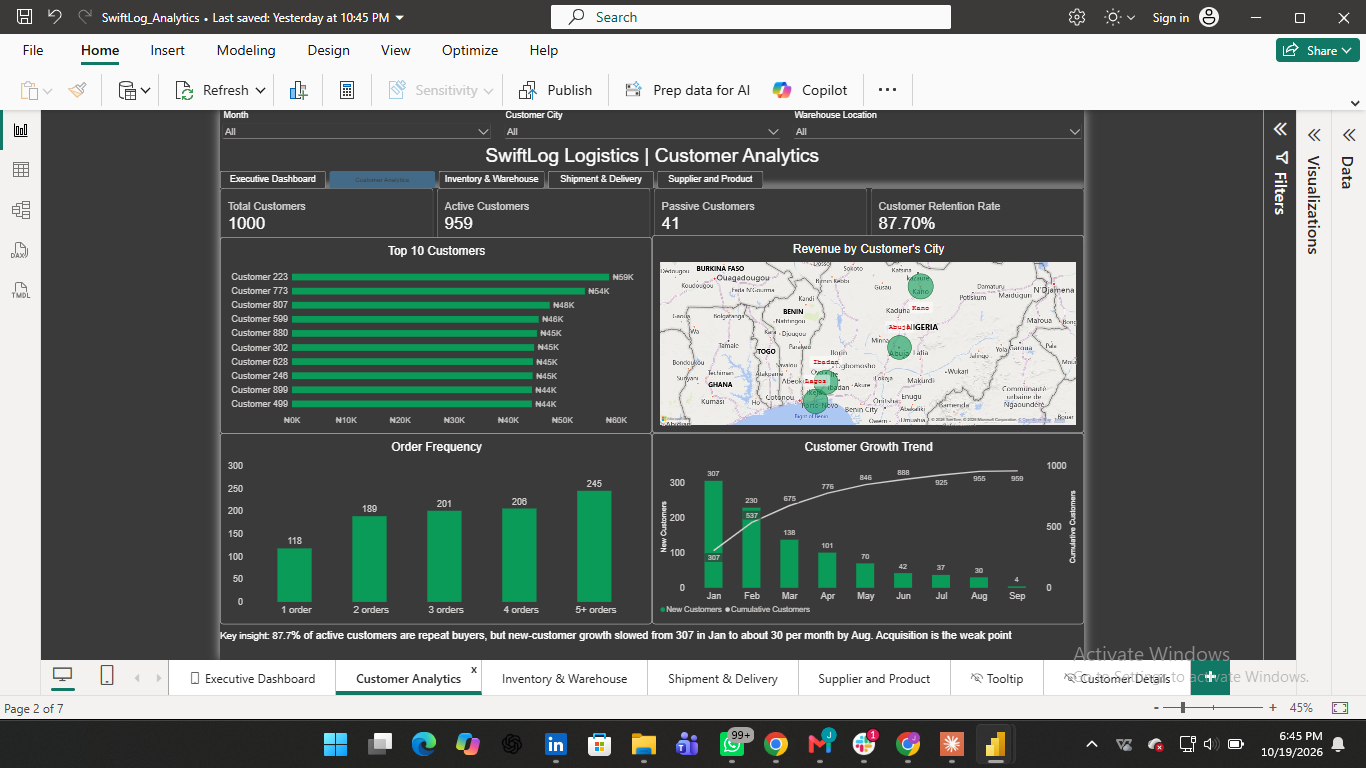

What the dashboard file says about the page in this screenshot:
{"tool":"powerbi","page":{"name":"Customer Analytics","canvas":[1920,1222],"ordinal":1},"visuals":[{"type":"cardVisual","fields":{"Data":["_Measures.Total Customers","_Measures.Active Customers","_Measures.Passive Customers","_Measures.Customer Retention Rate"]},"box":[0,173.5,1920.2,125],"z":0},{"type":"clusteredBarChart","title":"Top 10 Customers","fields":{"Category":["SwiftLog_Customers.CustomerName"],"Y":["_Measures.Total Revenue"]},"box":[0,281.1,960.5,437.5],"z":1000},{"type":"map","title":"Revenue by Customer''s City","fields":{"Category":["SwiftLog_Customers.City"],"Size":["_Measures.Total Revenue"]},"box":[960.5,278.6,960.5,439.9],"z":2000},{"type":"lineClusteredColumnComboChart","title":"Customer Growth Trend","fields":{"Y":["_Measures.New Customers"],"Category":["Date.Month"],"Y2":["_Measures.Cumulative Customers"]},"box":[960.5,718.5,960.5,425.3],"z":3000},{"type":"clusteredColumnChart","title":"Order Frequency","fields":{"Y":["_Measures.Customers in Band"],"Category":["Order Frequency Bands.Band"]},"box":[0,718.5,960.5,425.3],"z":4000},{"type":"slicer","fields":{"Values":["Date.Month"]},"box":[0,0,607,75.6],"z":5000},{"type":"slicer","fields":{"Values":["SwiftLog_Customers.City"]},"box":[626.4,0,624.2,75.6],"z":6000},{"type":"slicer","fields":{"Values":["SwiftLog_Warehouses.Location"]},"box":[1267.9,0,652.3,75.6],"z":7000},{"type":"textbox","box":[0,75.8,1921,58.7],"z":8000},{"type":"textbox","box":[0,1153.6,1921,68.4],"z":9000},{"type":"pageNavigator","box":[0,134.4,1207.3,39.1],"z":10000}]}

Visuals, with their boxes on the page's 1920x1222 design canvas (x1, y1, x2, y2). These are canvas units, not pixel positions in the 1366x768 screenshot, which may show the page scaled, cropped or inside an application window:
cardVisual - _Measures.Total Customers x _Measures.Active Customers: box=[0, 174, 1920, 298]
"Top 10 Customers" clusteredBarChart: box=[0, 281, 960, 719]
"Revenue by Customer''s City" map: box=[960, 279, 1921, 718]
"Customer Growth Trend" lineClusteredColumnComboChart: box=[960, 718, 1921, 1144]
"Order Frequency" clusteredColumnChart: box=[0, 718, 960, 1144]
slicer - Date.Month: box=[0, 0, 607, 76]
slicer - SwiftLog_Customers.City: box=[626, 0, 1251, 76]
slicer - SwiftLog_Warehouses.Location: box=[1268, 0, 1920, 76]
textbox: box=[0, 76, 1921, 134]
textbox: box=[0, 1154, 1921, 1222]
pageNavigator: box=[0, 134, 1207, 174]
